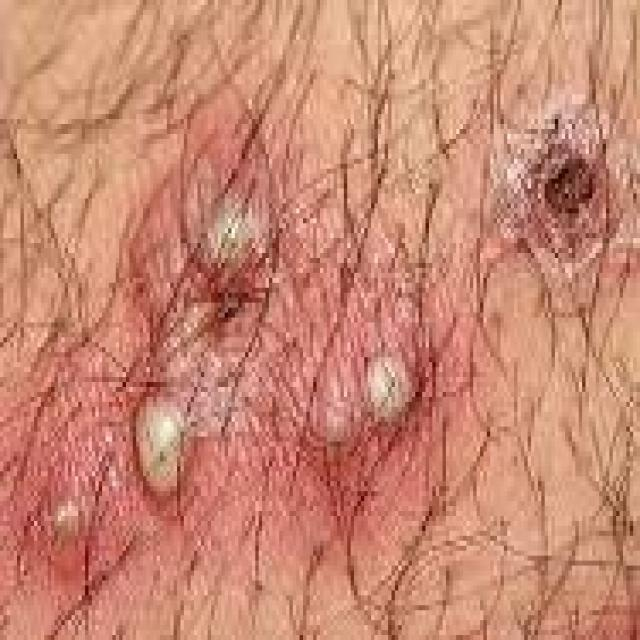8: (314, 377, 358, 465)
9: (354, 332, 446, 452), (38, 446, 119, 580), (129, 387, 208, 508)
pustules: (173, 178, 284, 302)
